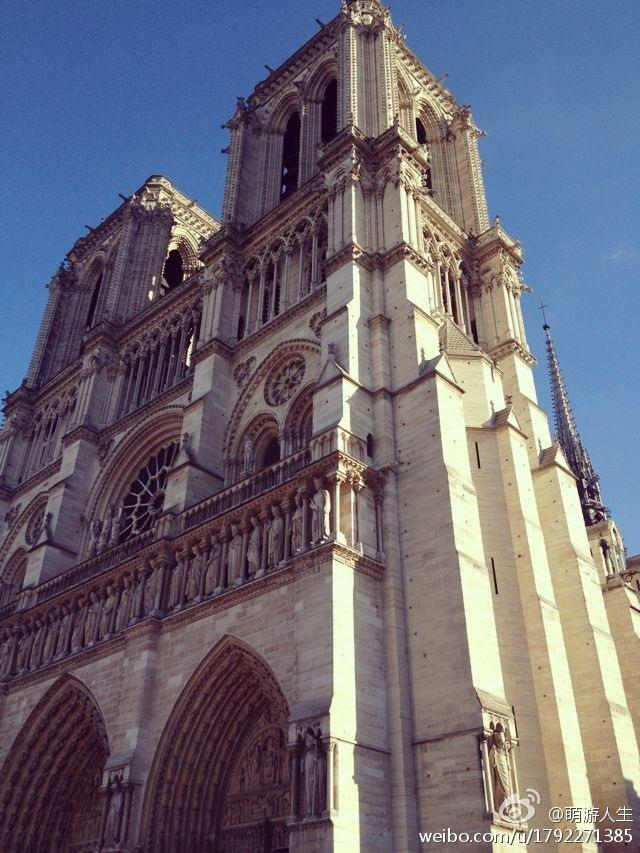Notre_Dame_de_Paris: (1, 3, 633, 840)
